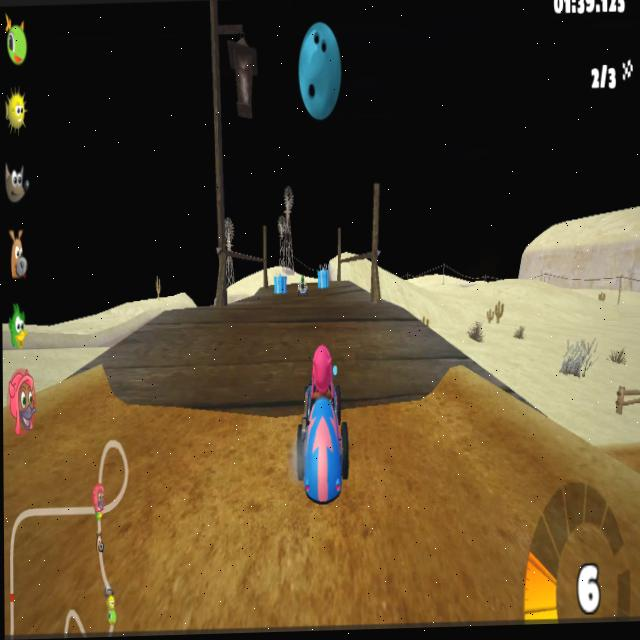bonus: (268, 262, 286, 300), (316, 264, 338, 290)
enemy_kart: (300, 269, 308, 305)
track: (58, 362, 304, 623), (312, 509, 525, 623), (347, 339, 469, 513), (163, 307, 302, 363), (474, 385, 537, 493), (308, 300, 412, 327)
